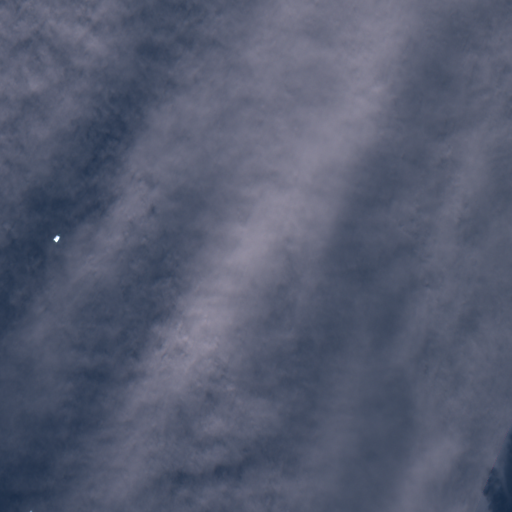Iceberg: (53, 235, 59, 242)
